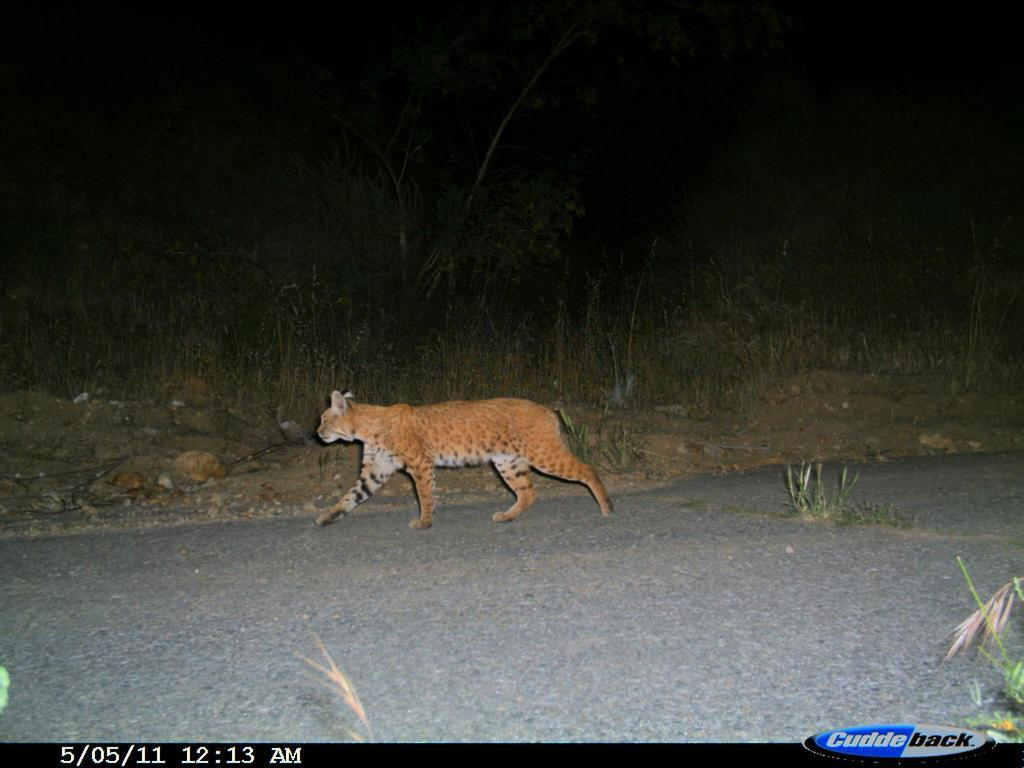bobcat: (313, 387, 621, 527)
